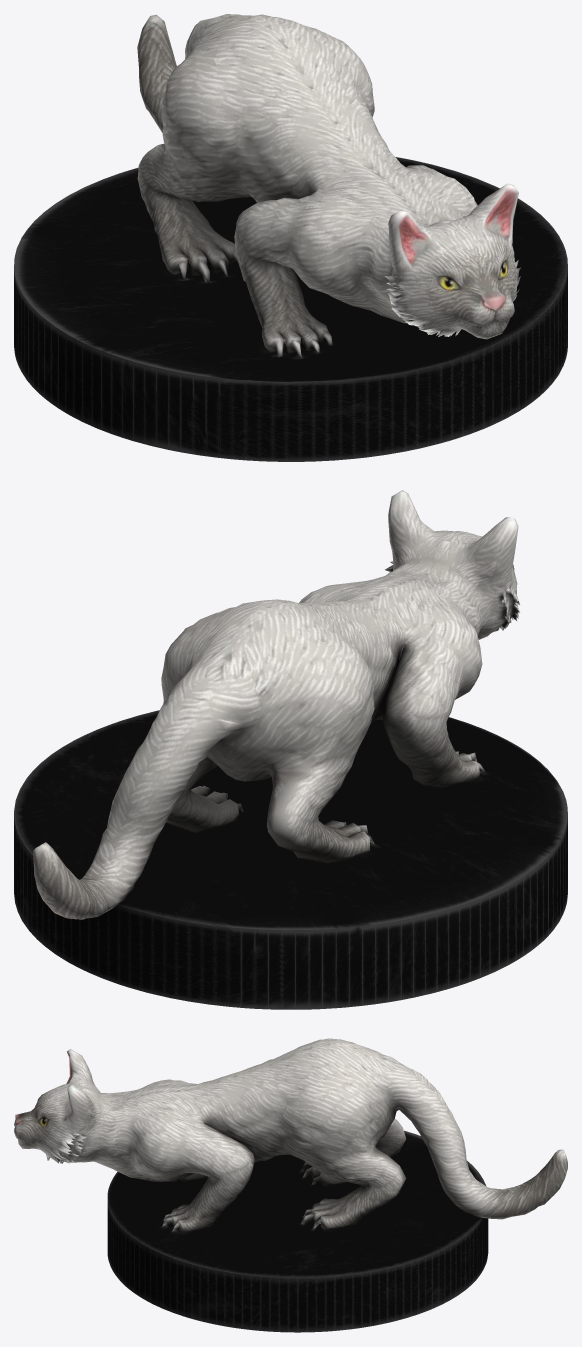
Rendered from MZ4250 - Cat (white).glb.
3 renders of one model, top to bottom at view 1: azimuth 30°, elevation 25°; view 2: azimuth 150°, elevation 25°; view 3: azimuth 270°, elevation 25°, orthographic. The views are drawn at different scales.
Visible parts, largest first — view 1: model_low.001; view 2: model_low.001; view 3: model_low.001.
Boxes of the visible parts, x1=… form: model_low.001: x1=14, y1=14, x2=567, y2=461; model_low.001: x1=14, y1=490, x2=567, y2=1009; model_low.001: x1=14, y1=1038, x2=567, y2=1332.
Bounding box in the file's own units: 0.7662 × 0.4626 × 1.11.
Materials: 1 (1 with a texture image).
